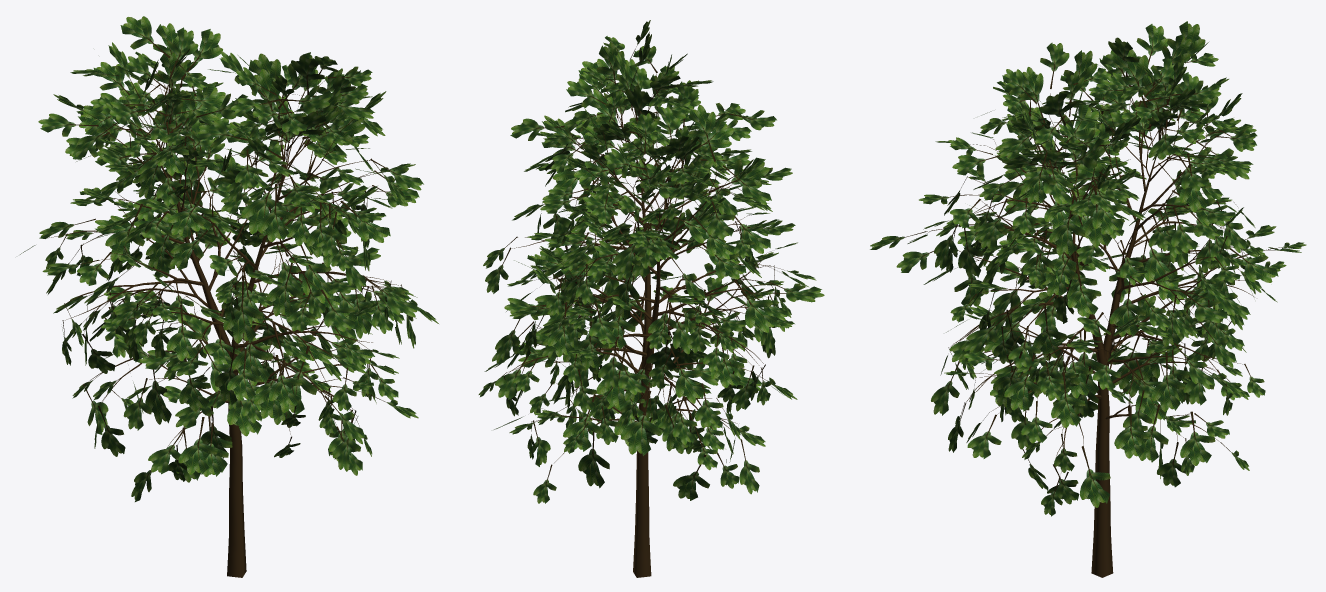
File: Pohon Jelutung.fbx
3 renders of one model, left to right at view 1: azimuth 30°, elevation 25°; view 2: azimuth 150°, elevation 25°; view 3: azimuth 270°, elevation 25°, orthographic. The views are drawn at different scales.
Visible parts, largest first — view 1: leaves; view 2: leaves; view 3: leaves.
Part boxes in pixels (x1=…): leaves: x1=20, y1=16, x2=438, y2=577; leaves: x1=478, y1=20, x2=824, y2=577; leaves: x1=870, y1=21, x2=1306, y2=577.
Bounding box in the file's own units: 1190 × 1725 × 1337.
Materials: 2 (1 with a texture image).
